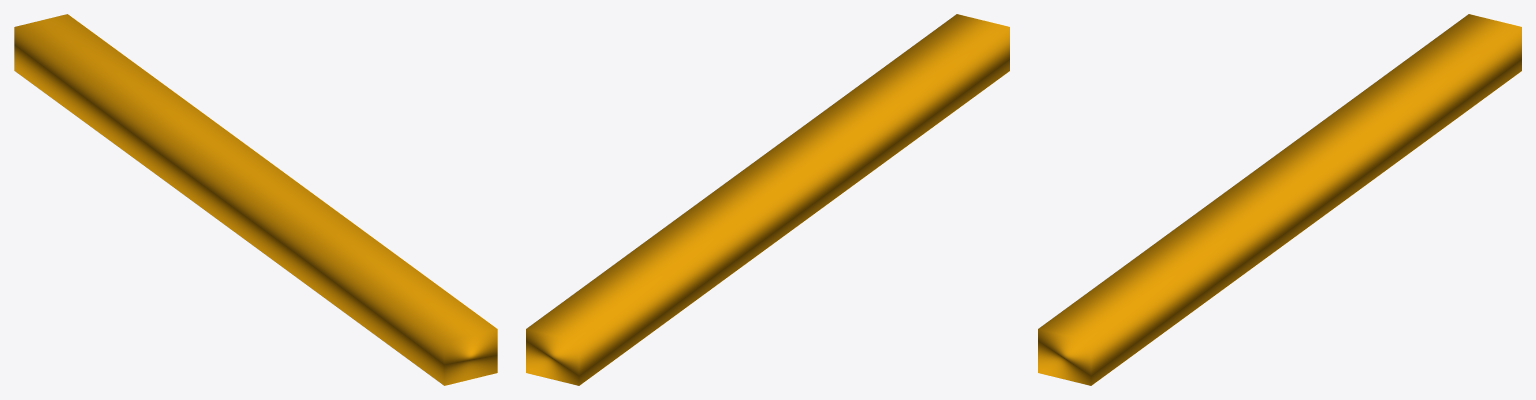
File: Rail_02.fbx
The picture shows the model from 3 angles, left to right: view 1: azimuth 30°, elevation 25°; view 2: azimuth 150°, elevation 25°; view 3: azimuth 330°, elevation 25°; orthographic projection.
Visible parts, largest first — view 1: Rail_02; view 2: Rail_02; view 3: Rail_02.
Boxes of the visible parts, <box> form: Rail_02: <box>14,14,497,385</box>; Rail_02: <box>526,14,1009,385</box>; Rail_02: <box>1038,14,1521,385</box>.
Size of the model in its own units: 13.56 by 10.66 by 189.
